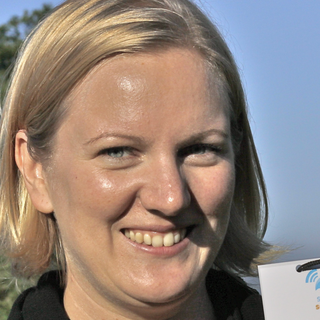eye: (175, 138, 227, 167), (92, 139, 140, 166)
